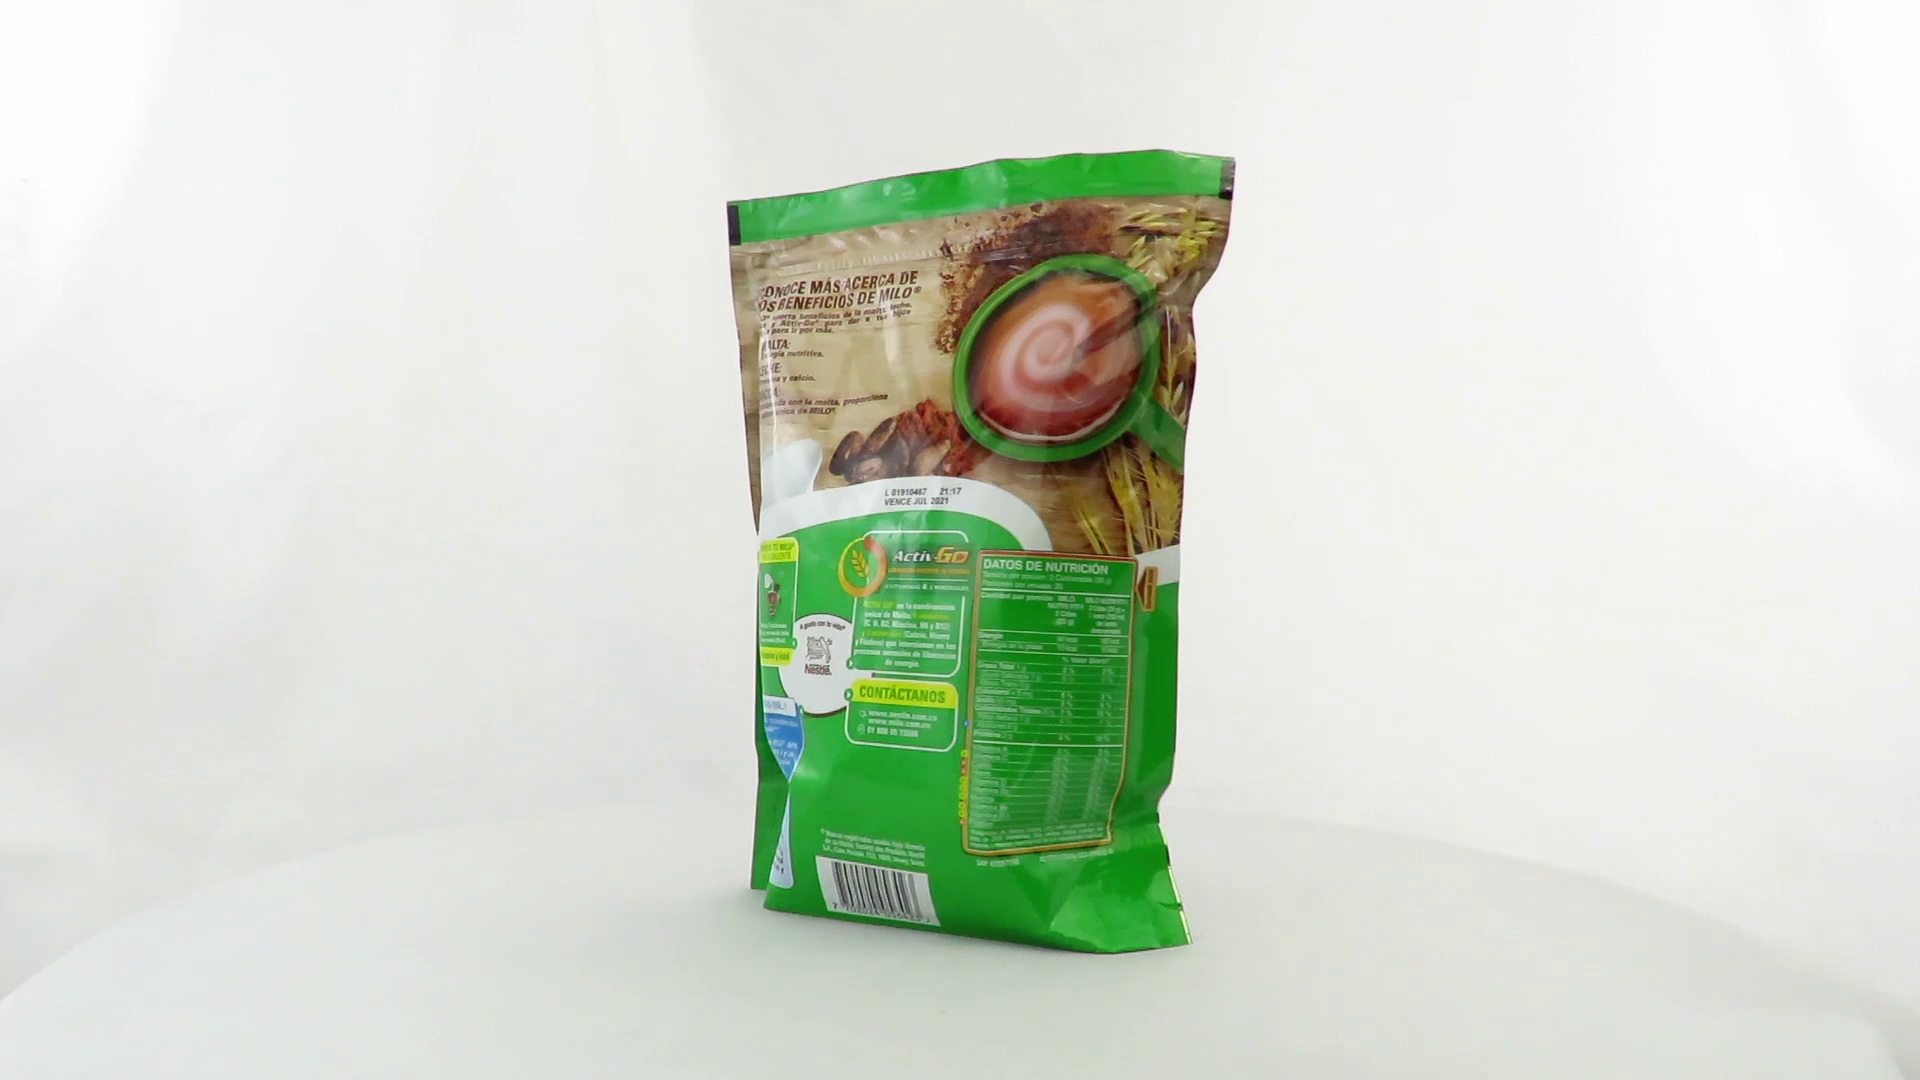COL0170205DYP50000: (721, 144, 1242, 961)
